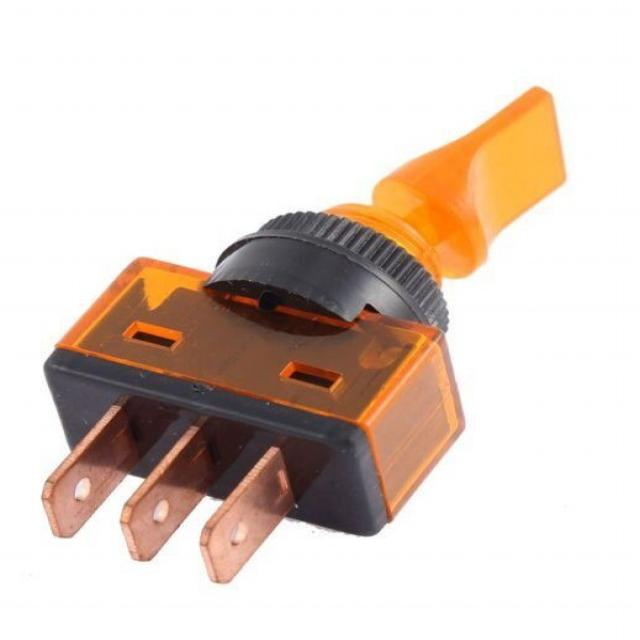toggle switch: (235, 89, 562, 330)
